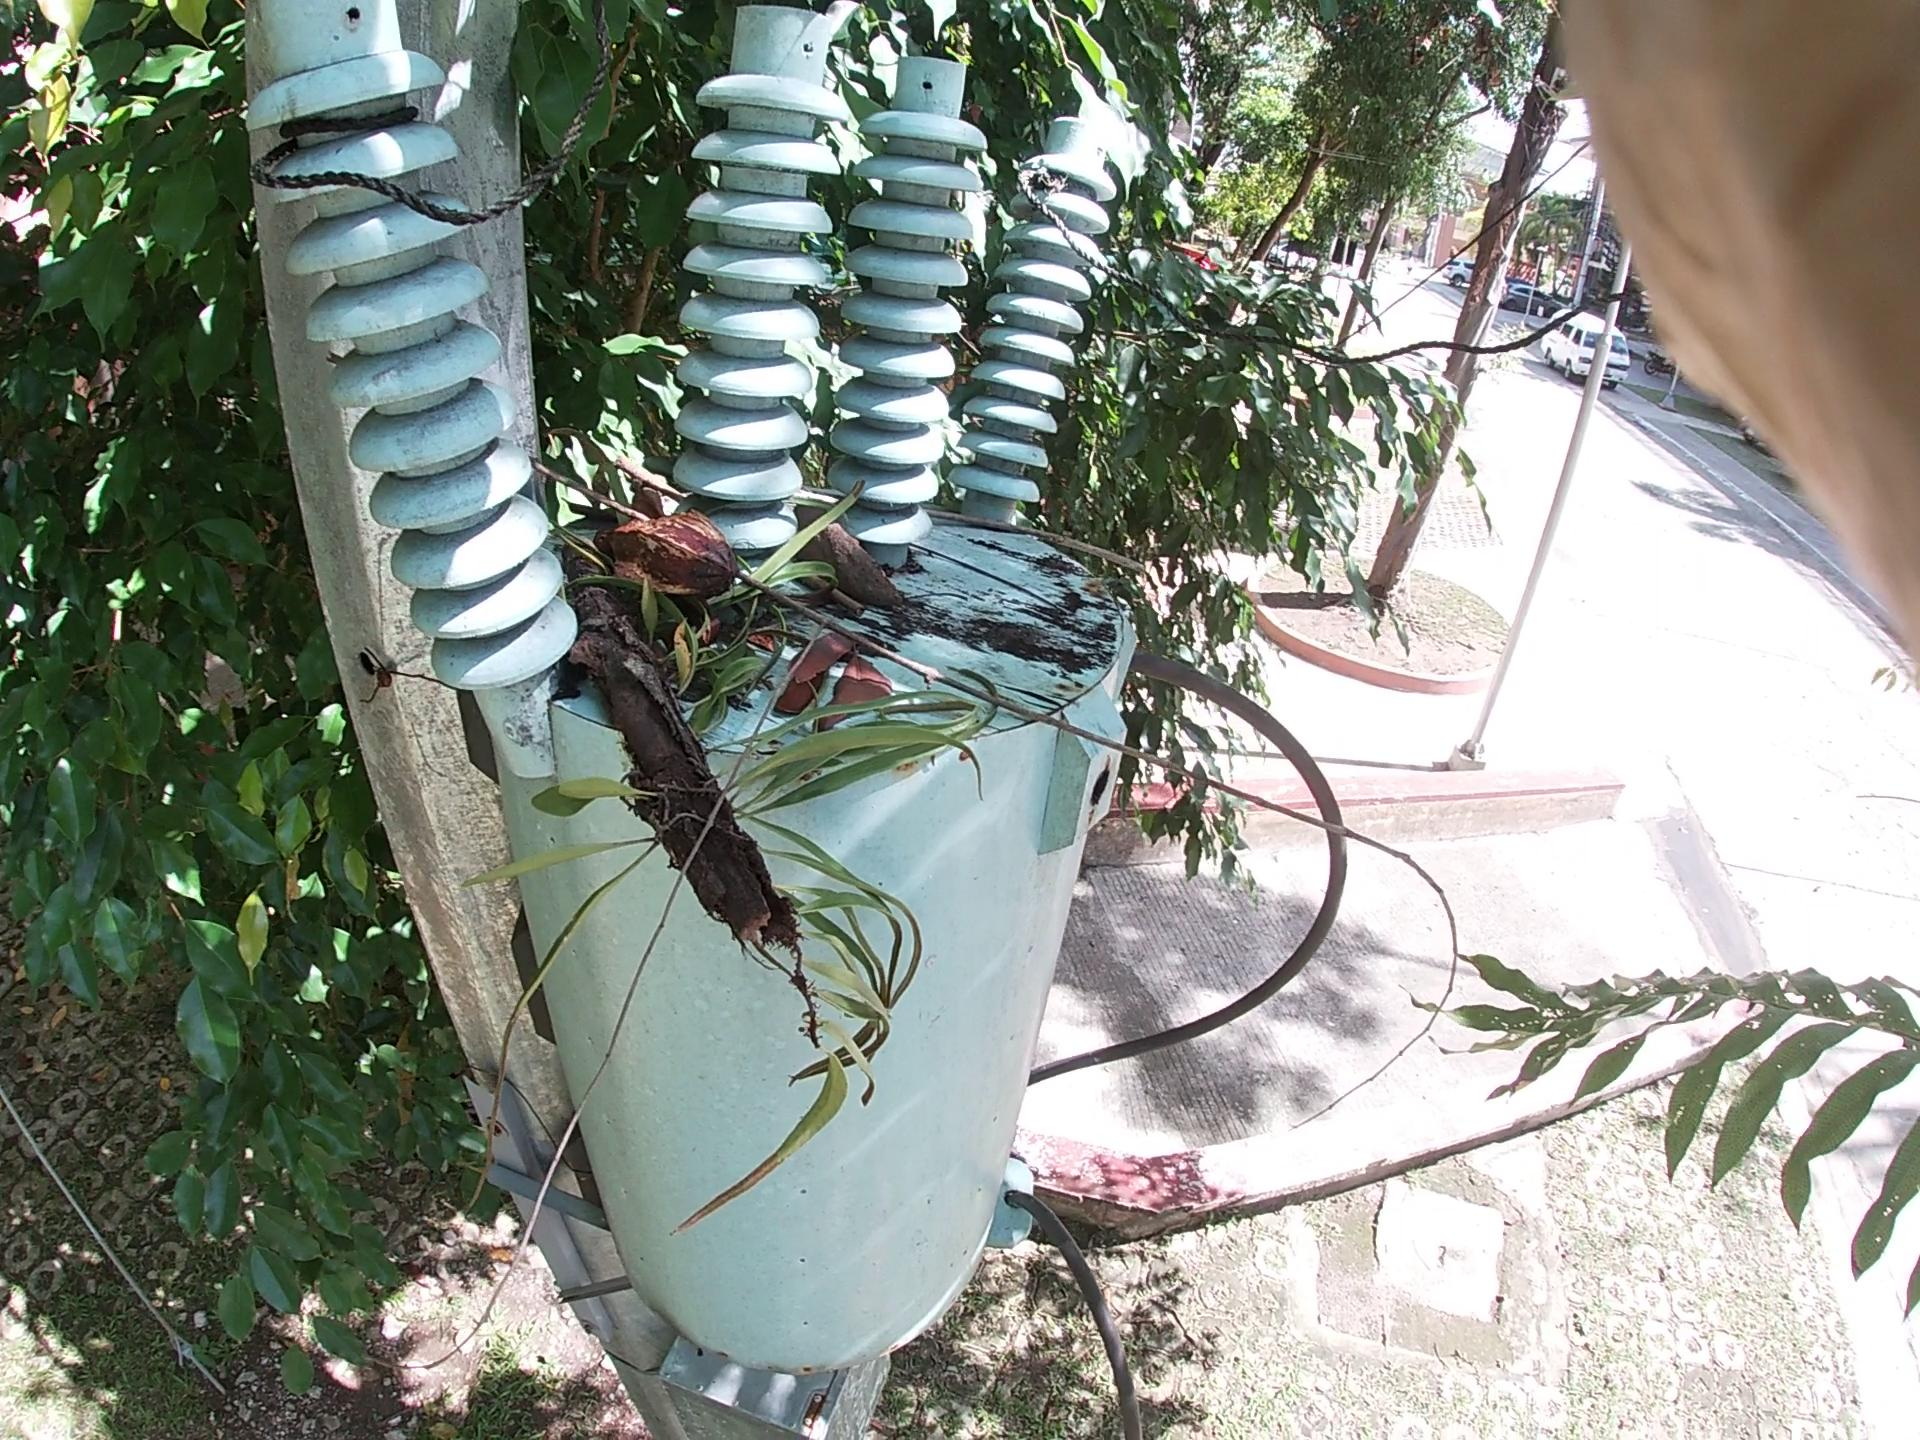branch with leaves: (508, 475, 1030, 1010)
leaf: (517, 15, 1259, 389)
mahogany fruit: (801, 492, 949, 646), (609, 502, 779, 602)
tree branch: (534, 440, 1438, 911), (924, 517, 1190, 575), (800, 573, 892, 632)
